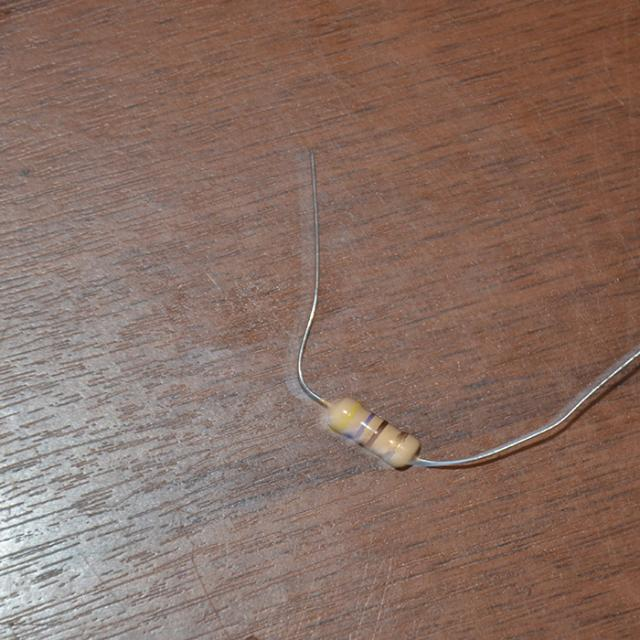brown: (364, 418, 386, 445)
gold: (384, 431, 407, 458)
resistor: (295, 377, 435, 486)
violet: (354, 413, 375, 440)
yellow: (337, 401, 359, 430)
